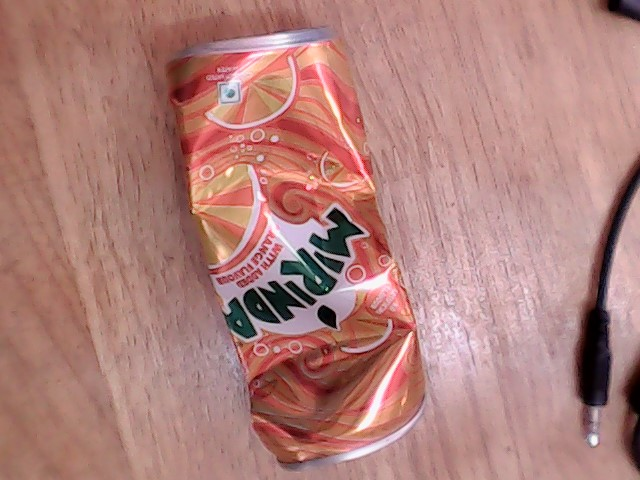Metal: (147, 36, 454, 480)
